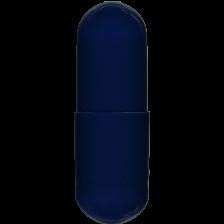61786-502: (0, 0, 224, 224)
